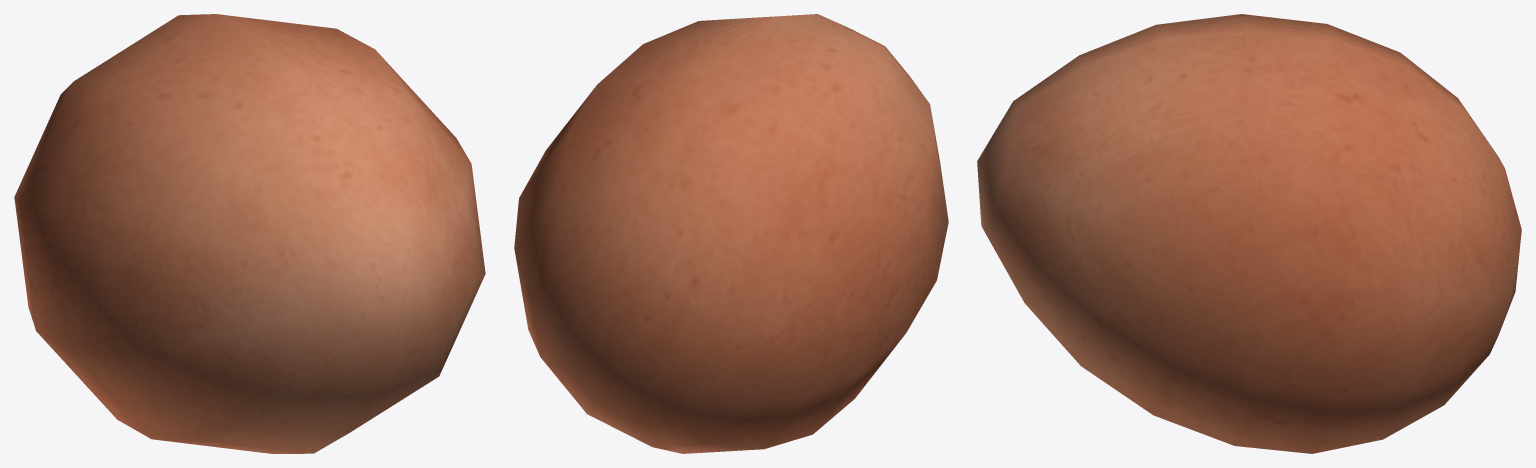
File: Egg2.obj
3 renders of one model, left to right at view 1: azimuth 30°, elevation 25°; view 2: azimuth 150°, elevation 25°; view 3: azimuth 270°, elevation 25°, orthographic. The views are drawn at different scales.
Visible parts, largest first — view 1: lba_egg_1_mod; view 2: lba_egg_1_mod; view 3: lba_egg_1_mod.
Boxes of the visible parts, bbox=[...] form: lba_egg_1_mod: bbox=[14, 14, 485, 453]; lba_egg_1_mod: bbox=[514, 14, 948, 453]; lba_egg_1_mod: bbox=[977, 14, 1521, 453].
Bounding box in the file's own units: 0.6921 × 0.7373 × 0.8976.
